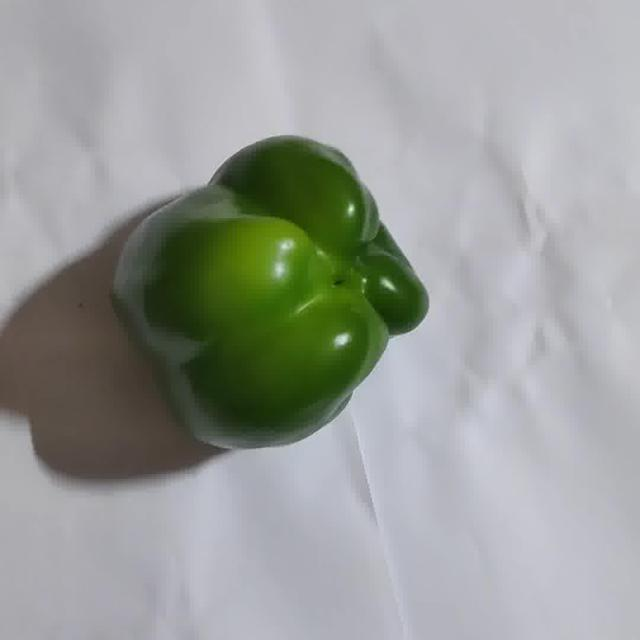Bell Pepper: (116, 137, 428, 449)
